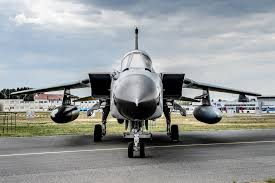fighter: (1, 27, 263, 159)
